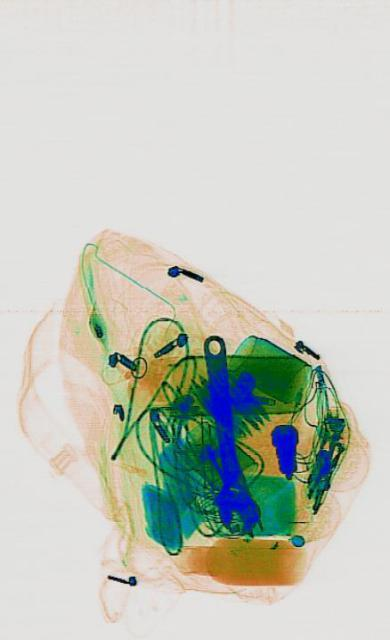Wrench: (192, 328, 260, 538)
